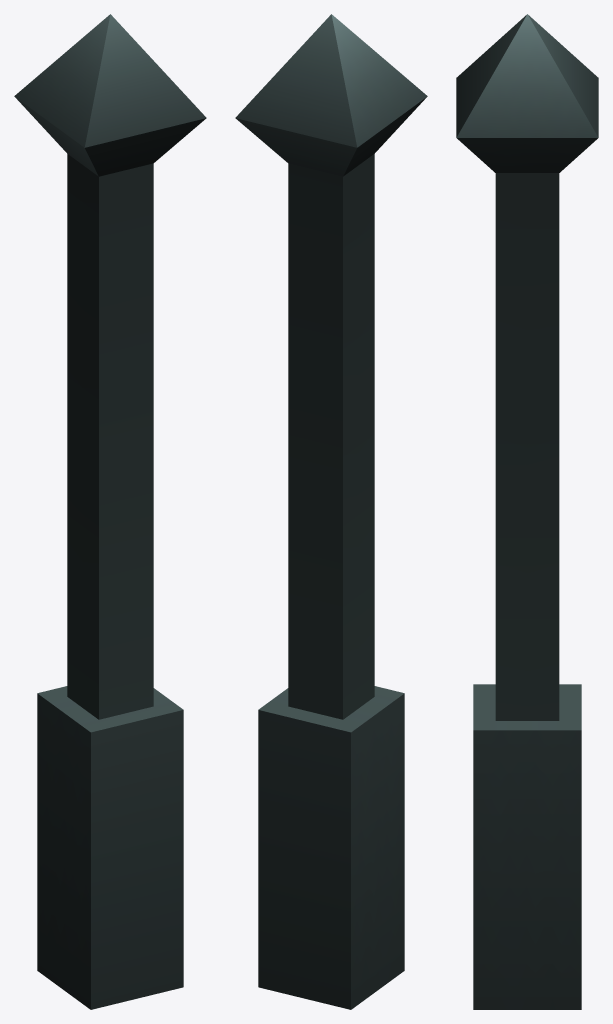
The model's file is Metal_Fence_3B.fbx.
3 views of the same model, side by side, from view 1: azimuth 30°, elevation 25°; view 2: azimuth 150°, elevation 25°; view 3: azimuth 270°, elevation 25° (orthographic).
Visible parts, largest first — view 1: Metal_Fence_3B; view 2: Metal_Fence_3B; view 3: Metal_Fence_3B.
Part boxes in pixels (left/top/right/bottom): Metal_Fence_3B: left=14, top=14, right=206, bottom=1009; Metal_Fence_3B: left=235, top=14, right=427, bottom=1009; Metal_Fence_3B: left=456, top=14, right=598, bottom=1009.
Bounding box in the file's own units: 0.218 × 1.65 × 0.218.
